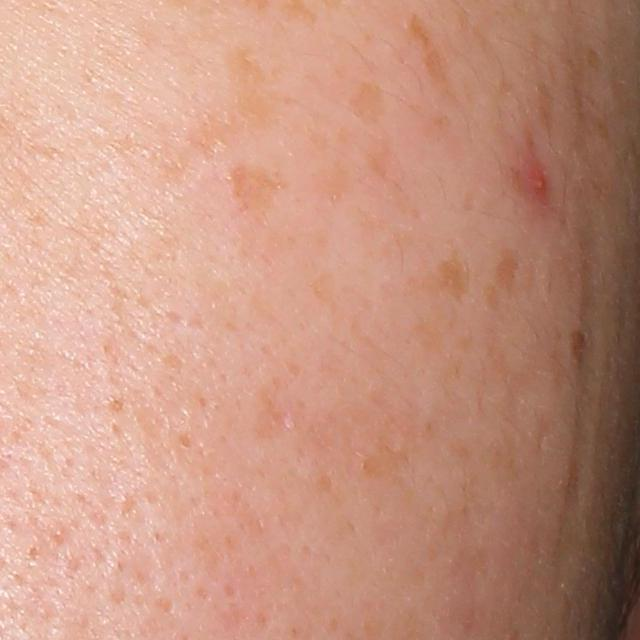melasma: (231, 58, 274, 122), (228, 163, 281, 210)
papule: (524, 152, 549, 209)
